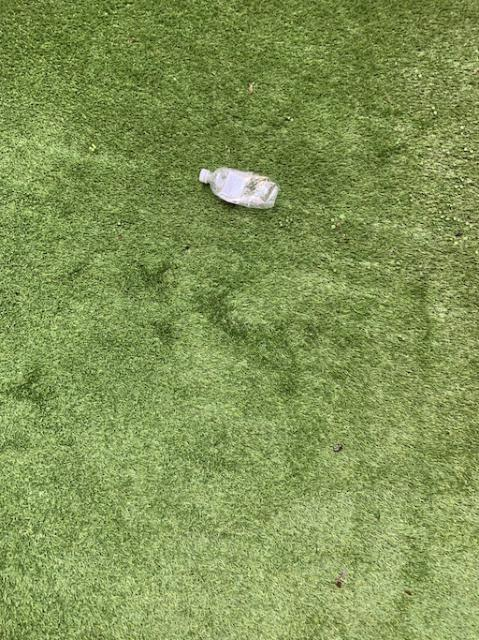plastic: (199, 167, 277, 206)
